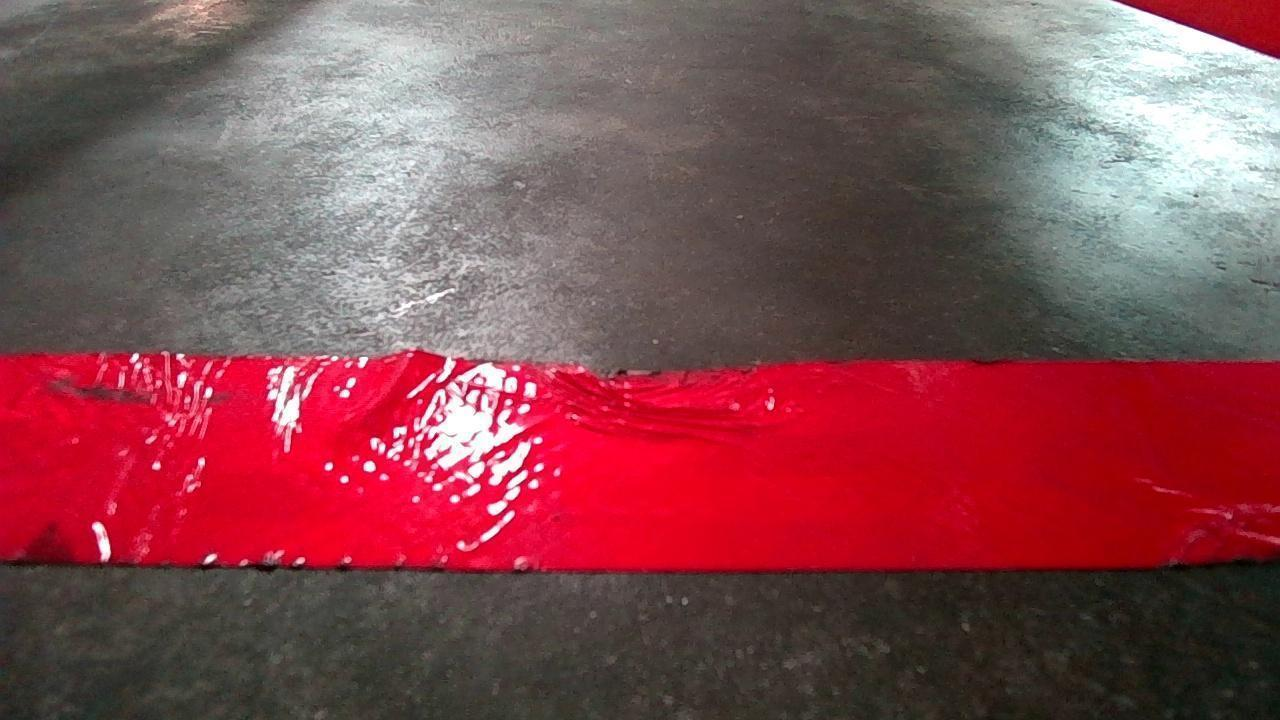red_line: (27, 354, 1254, 579)
